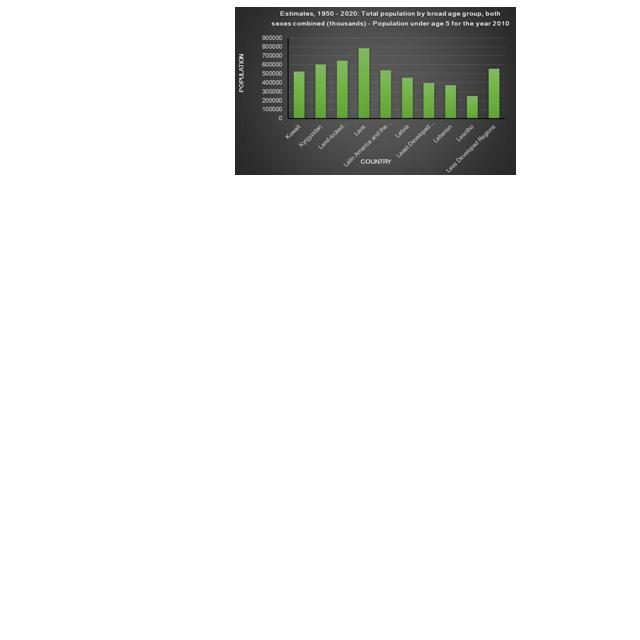Graph: (235, 7, 516, 175)
